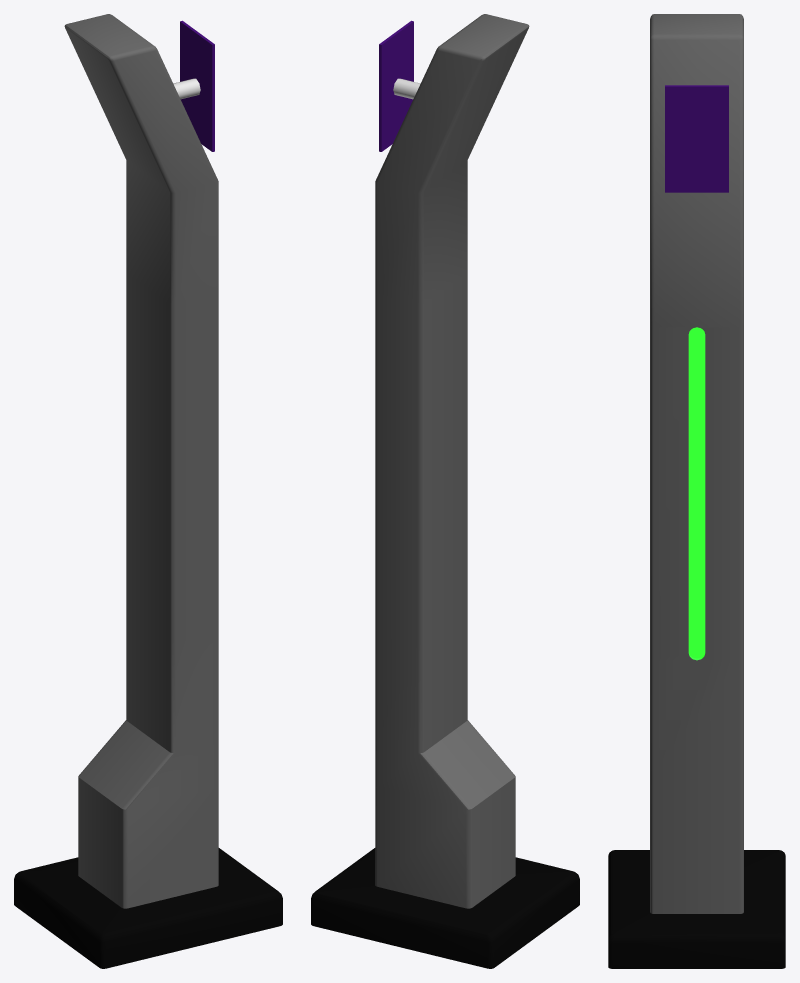
The model's file is Стойка с разбиением по материалам.fbx.
3 views of the same model, side by side, from view 1: azimuth 30°, elevation 25°; view 2: azimuth 150°, elevation 25°; view 3: azimuth 270°, elevation 25° (orthographic).
Visible parts, largest first — view 1: Стойка напольная, Основание, Держатель.001; view 2: Стойка напольная, Основание, Держатель.001; view 3: Стойка напольная, Основание, Держатель.001, Подсветка.
Boxes of the visible parts, x1,y1,x2,y2 form: Стойка напольная: (64,14,218,908); Основание: (14,848,282,968); Держатель.001: (180,20,214,151); Стойка напольная: (375,14,529,908); Основание: (311,848,579,968); Держатель.001: (379,20,413,151); Стойка напольная: (650,14,743,913); Основание: (608,850,785,968); Держатель.001: (665,85,728,192); Подсветка: (688,327,705,660).
Bounding box in the file's own units: 0.2708 × 1.26 × 0.23.
